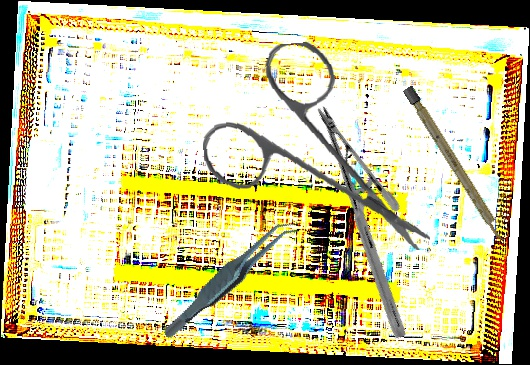Iris Scissors: (194, 32, 432, 269)
Needle Holder: (238, 101, 485, 343)
Scalpel Handle: (402, 85, 508, 244)
Tissue Forceps: (144, 216, 315, 341)
